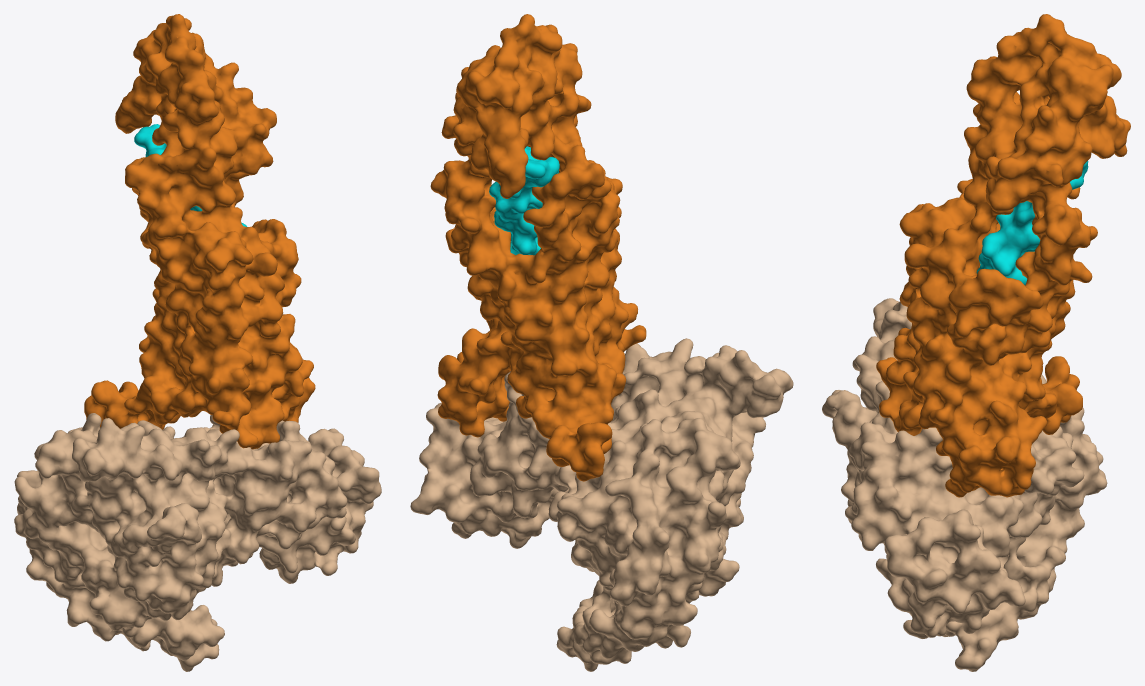
Rendered from glucagon_receptor.glb.
3 renders of one model, left to right at view 1: azimuth 30°, elevation 25°; view 2: azimuth 150°, elevation 25°; view 3: azimuth 270°, elevation 25°, orthographic. The views are drawn at different scales.
Parts seen in each view (by area): view 1: Shape_IndexedFaceSet_0; view 2: Shape_IndexedFaceSet_0; view 3: Shape_IndexedFaceSet_0.
Boxes of the visible parts, box(x1,y1,x2,y2) form: Shape_IndexedFaceSet_0: box(14, 14, 381, 671); Shape_IndexedFaceSet_0: box(410, 14, 793, 671); Shape_IndexedFaceSet_0: box(822, 14, 1130, 671).
Size of the model in its own units: 87.03 by 167 by 69.85.
